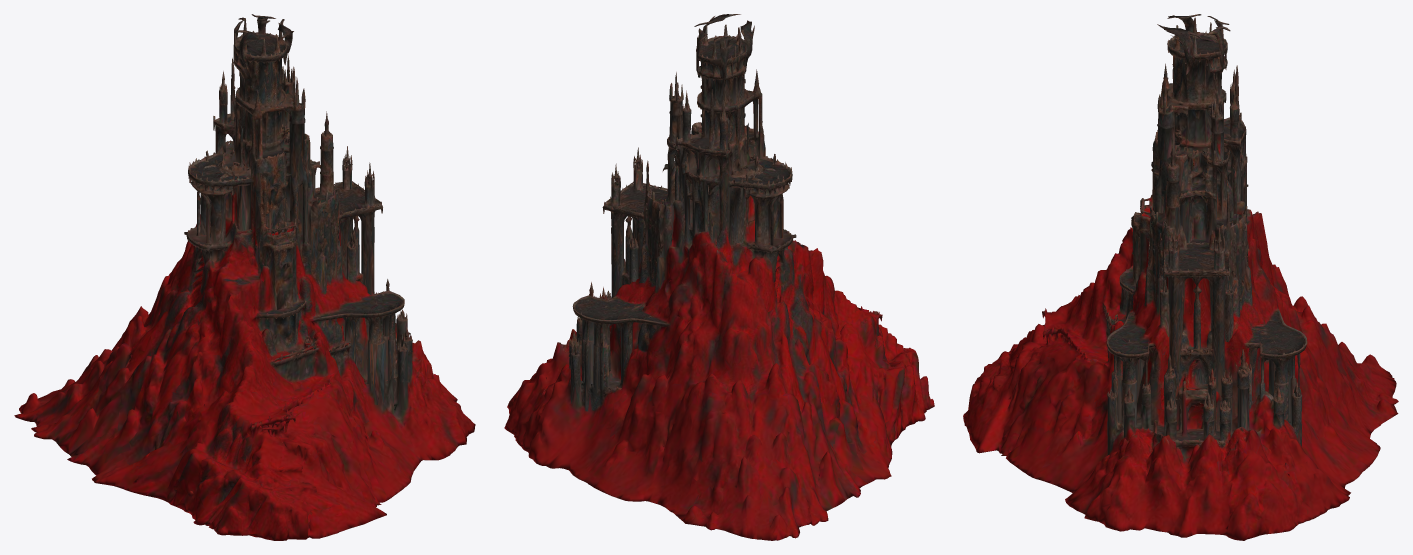
The model's file is Crimson_Spire_Citadel.glb.
3 views of the same model, side by side, from view 1: azimuth 30°, elevation 25°; view 2: azimuth 150°, elevation 25°; view 3: azimuth 270°, elevation 25° (orthographic). The views are drawn at different scales.
Parts seen in each view (by area): view 1: Crimson_Spire_Citadel; view 2: Crimson_Spire_Citadel; view 3: Crimson_Spire_Citadel.
Boxes of the visible parts, <box> form: Crimson_Spire_Citadel: <box>14,14,475,540</box>; Crimson_Spire_Citadel: <box>504,14,934,540</box>; Crimson_Spire_Citadel: <box>963,14,1398,540</box>.
Size of the model in its own units: 1.74 by 1.9 by 1.78.
1 material, 1 textured.
